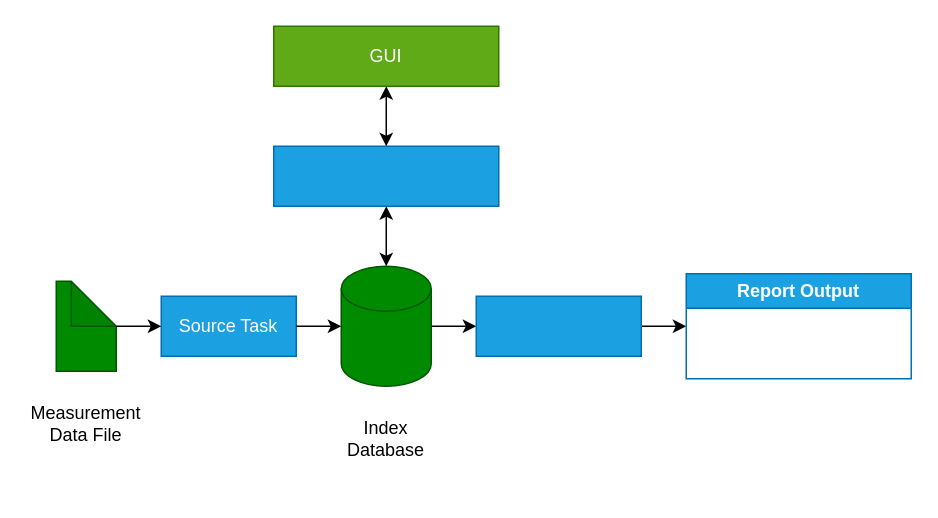
This 938x518 diagram has some shape labels left out. Here are the shapes that lost their labels. From the top down, the centre of each, then its label:
At pixel 385 175: "Google RPC".
At pixel 558 325: "Report Task".
